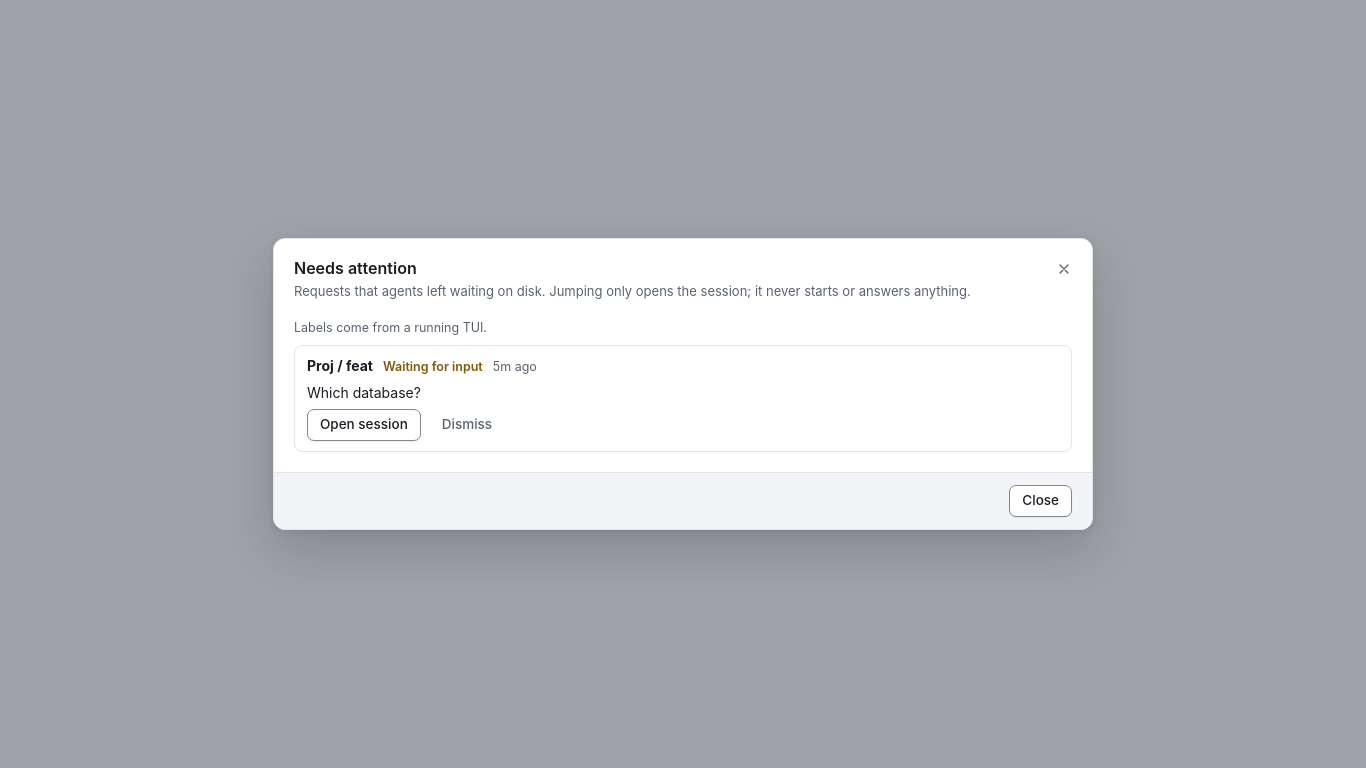
dismisses by stable id plus modified time and replaces the list with the refreshed one
The width and height of the screenshot is (1366, 768).
Click the button with aria-label "Dismiss feat": (467, 425) [429,409,505,441]
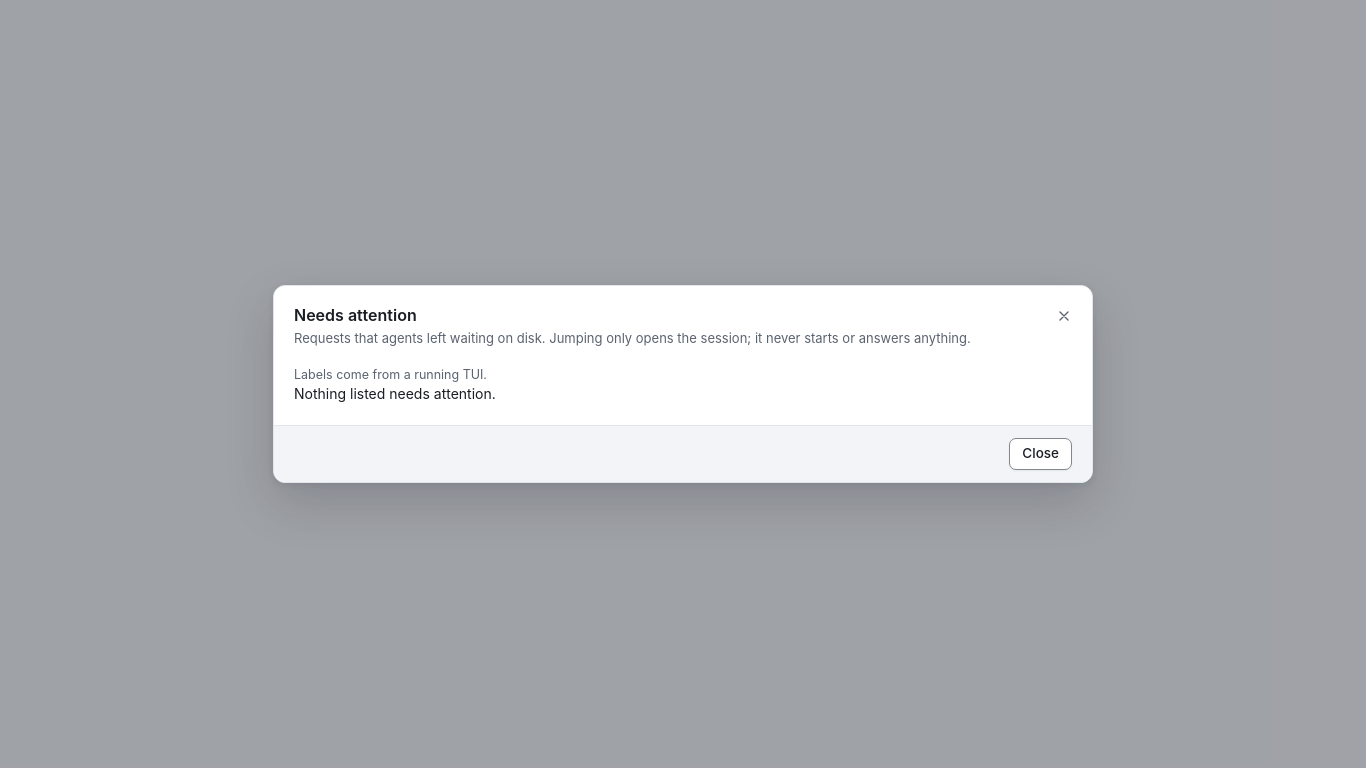
Check: the text "Nothing listed needs attention." is shown, box [294,385,496,402]
